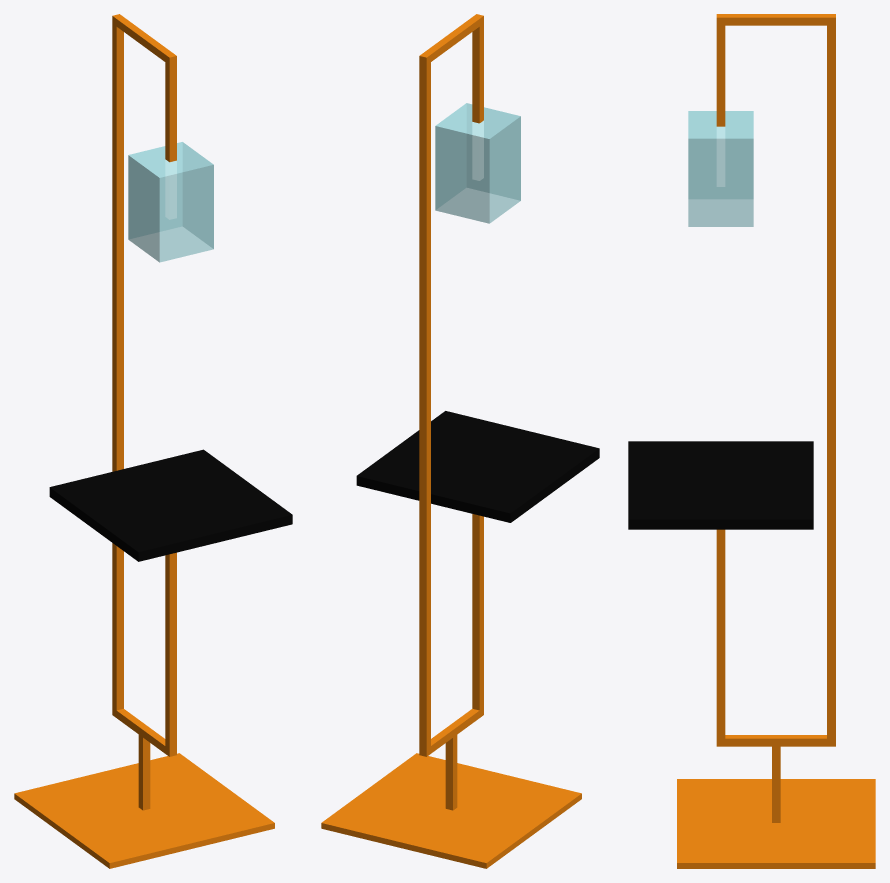
Rendered from Lamp 2.glb.
3 views of the same model, side by side, from view 1: azimuth 30°, elevation 25°; view 2: azimuth 150°, elevation 25°; view 3: azimuth 270°, elevation 25° (orthographic). The views are drawn at different scales.
Parts seen in each view (by area): view 1: Lamp 2; view 2: Lamp 2; view 3: Lamp 2.
Part boxes in pixels (x1=…): Lamp 2: x1=14, y1=14, x2=292, y2=868; Lamp 2: x1=321, y1=14, x2=599, y2=868; Lamp 2: x1=628, y1=14, x2=875, y2=868.
Size of what is drawn, in the model's own units: 0.4572 by 2.06 by 0.5689.
Materials: 3 (1 with a texture image).
